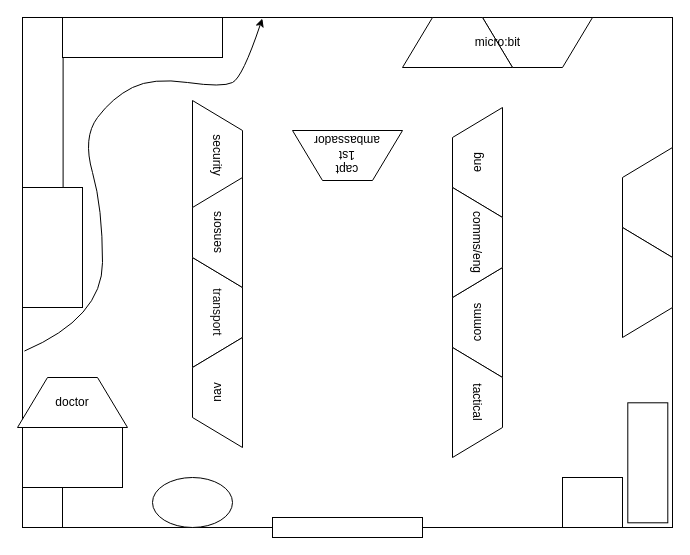
The diagram is 690 pixels wide and 555 high, and some of its shapes have lost their labels. Each missing label, with the box of its shape:
buckley: (152, 476, 232, 528)
sickbay: (22, 426, 122, 488)
